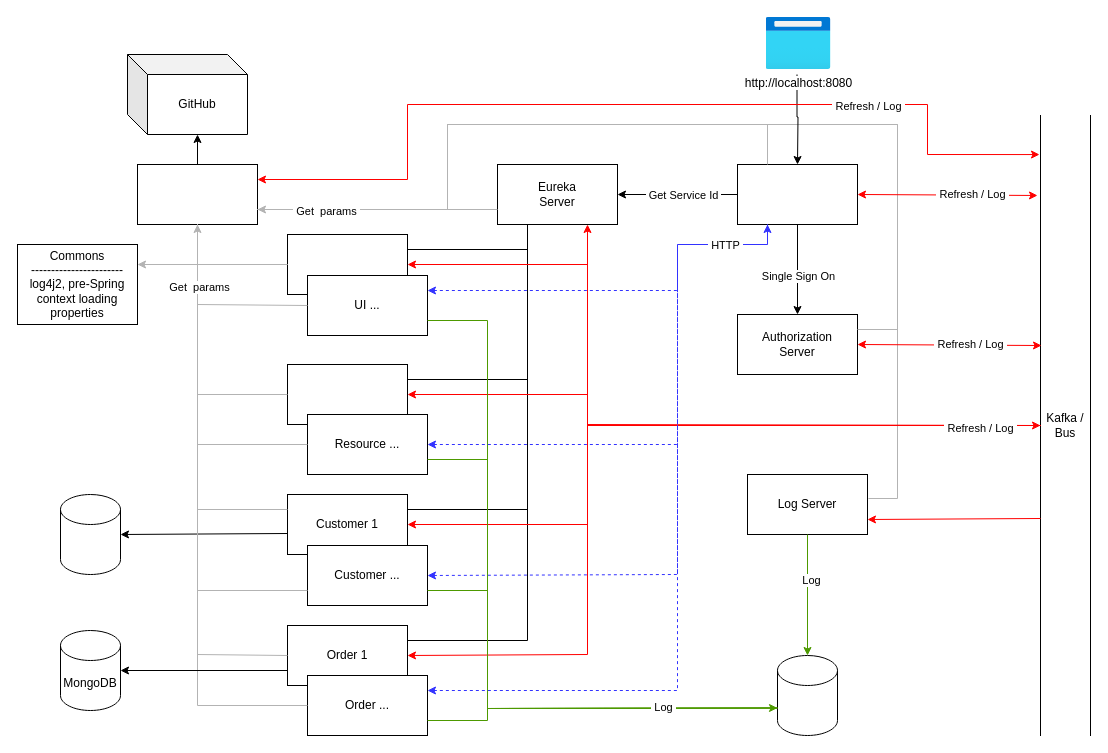
The diagram is 1108 pixels wide and 753 high, and some of its shapes have lost their labels. The centre of each missing label's shape, as x and y in pixels:
"Config Server" belongs at pixel 197 194.
"File System" belongs at pixel 807 695.
"Gateway Server" belongs at pixel 797 194.
"MySQL" belongs at pixel 90 534.
"Resource 1" belongs at pixel 347 394.
"UI 1" belongs at pixel 347 264.
